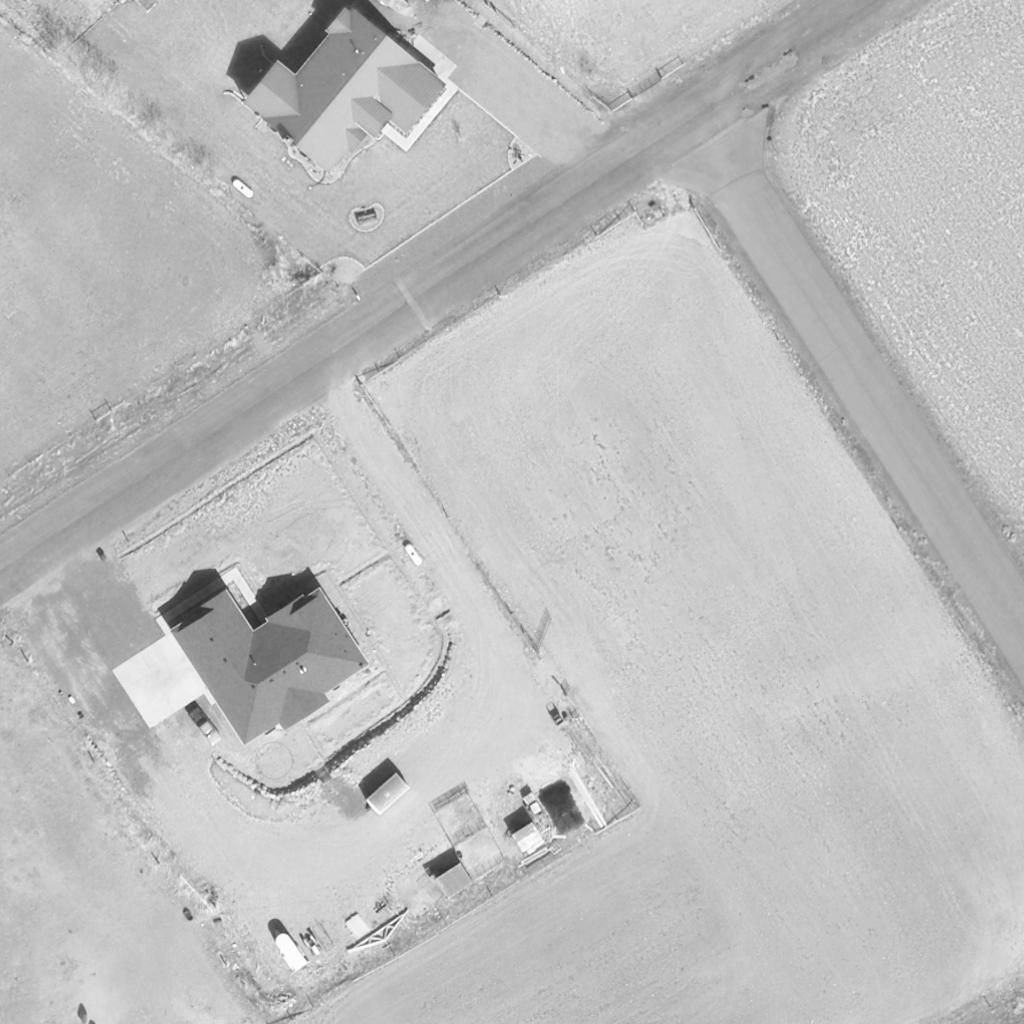vehicle: (367, 776, 409, 814), (521, 793, 553, 835), (186, 706, 222, 742)
